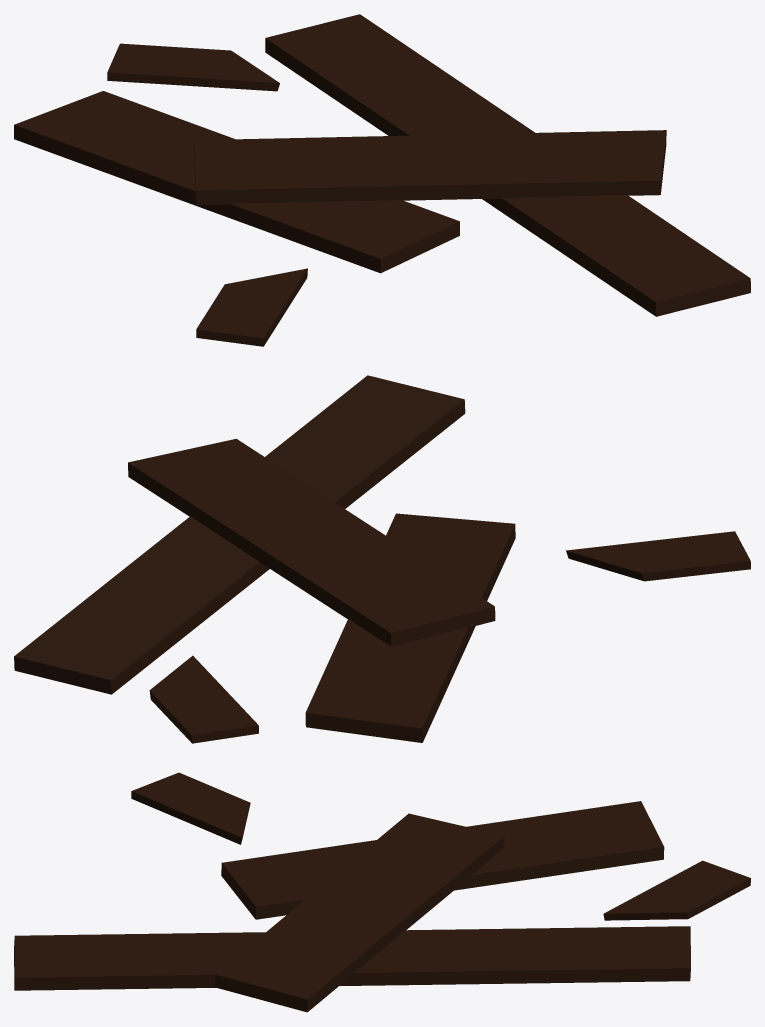
File: P_DebrisPlancheMoyen.FBX
3 renders of one model, top to bottom at view 1: azimuth 30°, elevation 25°; view 2: azimuth 150°, elevation 25°; view 3: azimuth 270°, elevation 25°, orthographic. The views are drawn at different scales.
Parts seen in each view (by area): view 1: Box006; view 2: Box006; view 3: Box006.
Part boxes in pixels (x1,y1,x2,y2): Box006: (14,14,750,346); Box006: (14,375,750,743); Box006: (14,772,750,1012).
Bounding box in the file's own units: 119 × 6.03 × 154.
